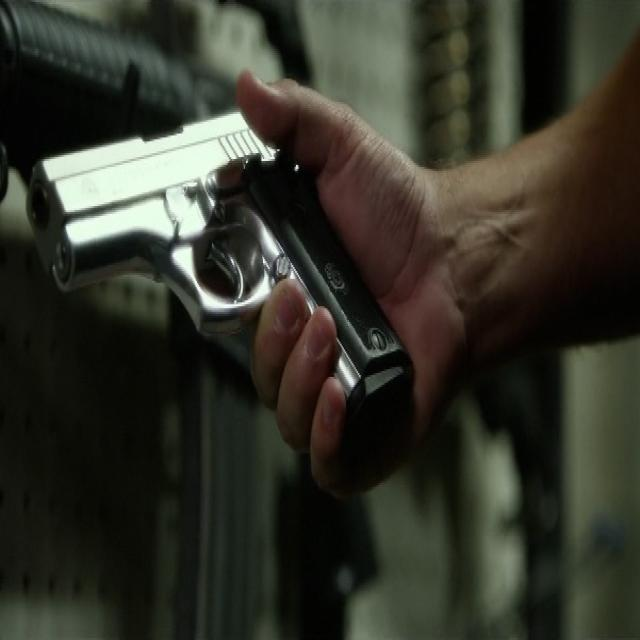weapons: (24, 63, 419, 500)
